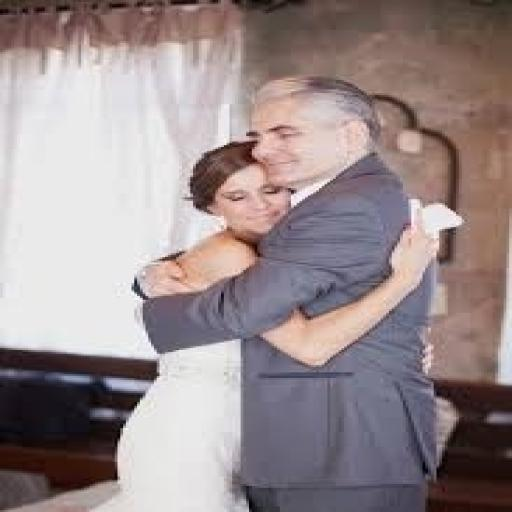hugging: (106, 73, 445, 510)
